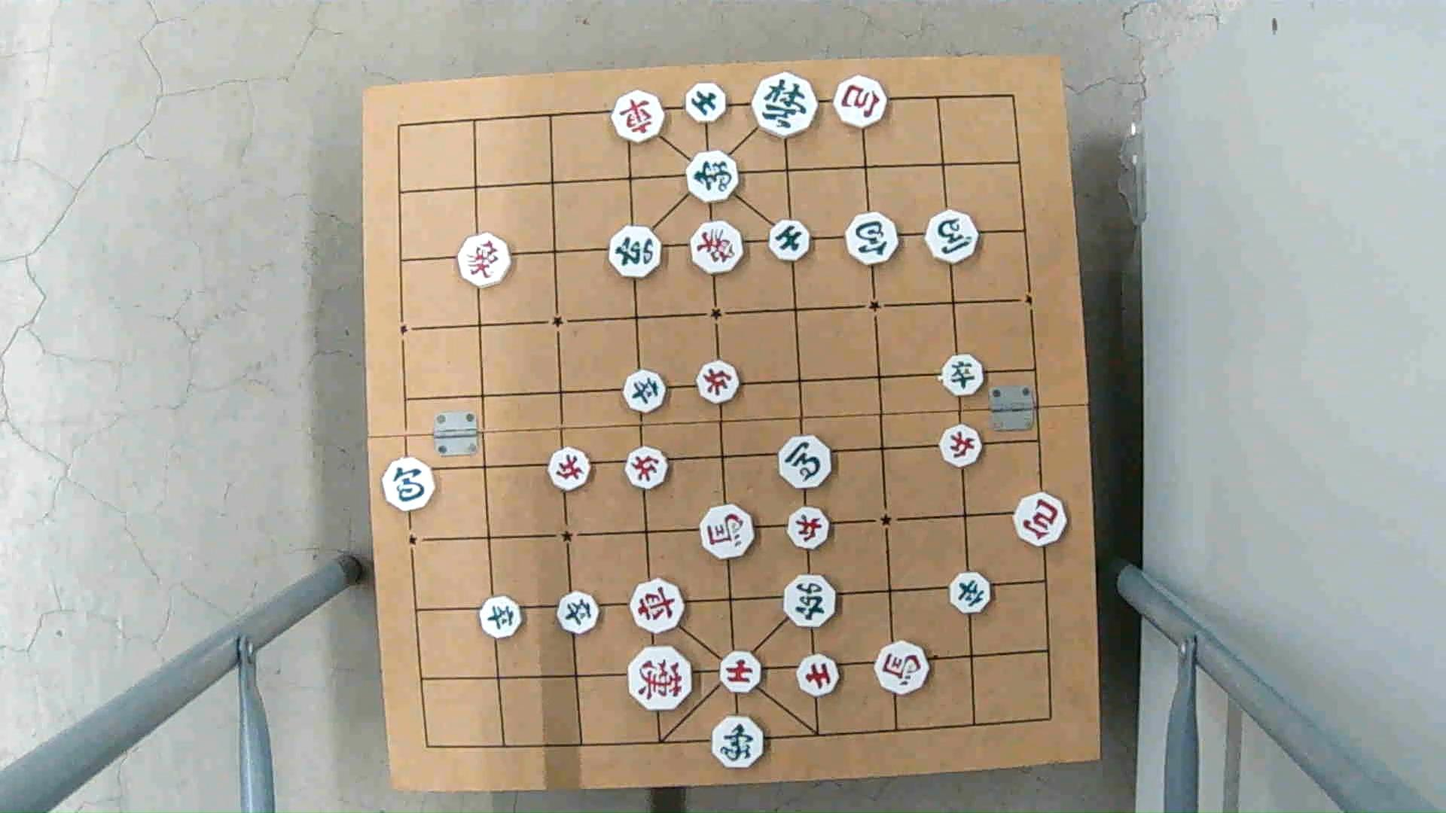cha_green: (782, 574, 843, 627), (609, 226, 667, 276)
cha_red: (630, 583, 688, 633), (610, 93, 667, 141)
jol_green: (621, 370, 668, 415), (554, 592, 602, 631), (477, 599, 524, 638), (939, 356, 987, 394), (947, 573, 993, 612)
jol_red: (694, 361, 742, 400), (622, 447, 670, 486), (787, 509, 832, 550), (548, 449, 595, 487), (938, 428, 984, 466)
ma_green: (776, 437, 834, 487), (923, 212, 981, 261)
ma_red: (875, 641, 935, 697), (698, 507, 753, 562)
po_green: (380, 461, 440, 510), (845, 215, 901, 263)
po_red: (833, 75, 891, 129), (1010, 495, 1067, 543)
sa_green: (766, 222, 813, 260), (682, 84, 729, 120)
sa_red: (716, 653, 764, 693), (794, 656, 841, 695)
sang_green: (684, 152, 741, 201), (709, 717, 766, 766)
sang_red: (688, 224, 745, 273), (455, 234, 512, 282)
wang_green: (752, 76, 820, 135)
wang_red: (624, 648, 694, 714)
